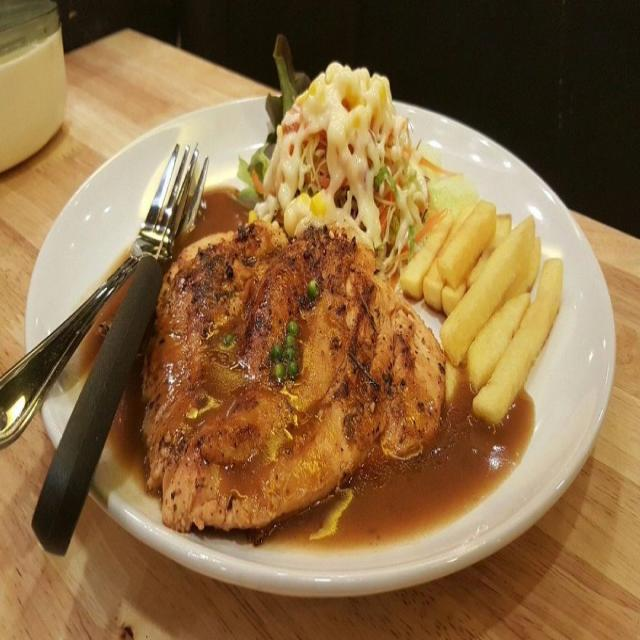Carbohydrate: (402, 194, 566, 426)
Protein: (142, 218, 444, 541)
Vegetable: (52, 46, 618, 592), (238, 27, 434, 276)
